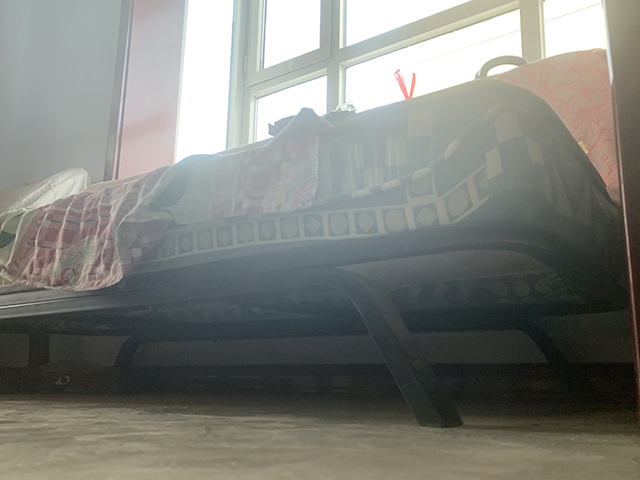sofa: (1, 47, 636, 429)
